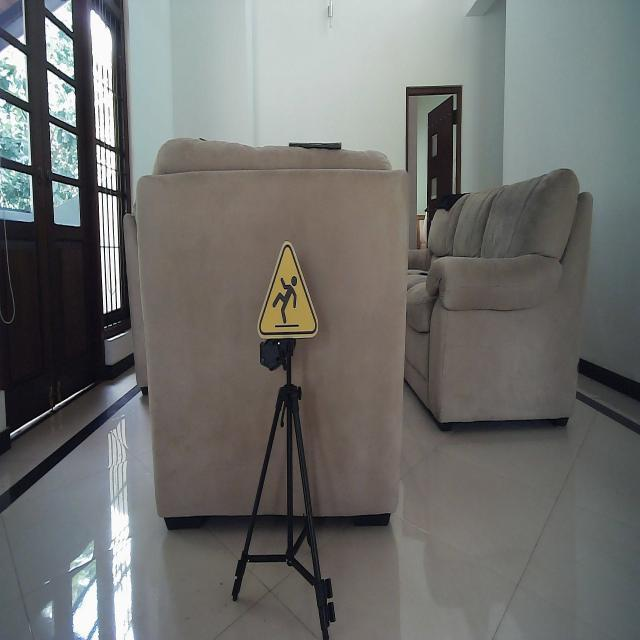slippery_sign: (256, 238, 320, 340)
